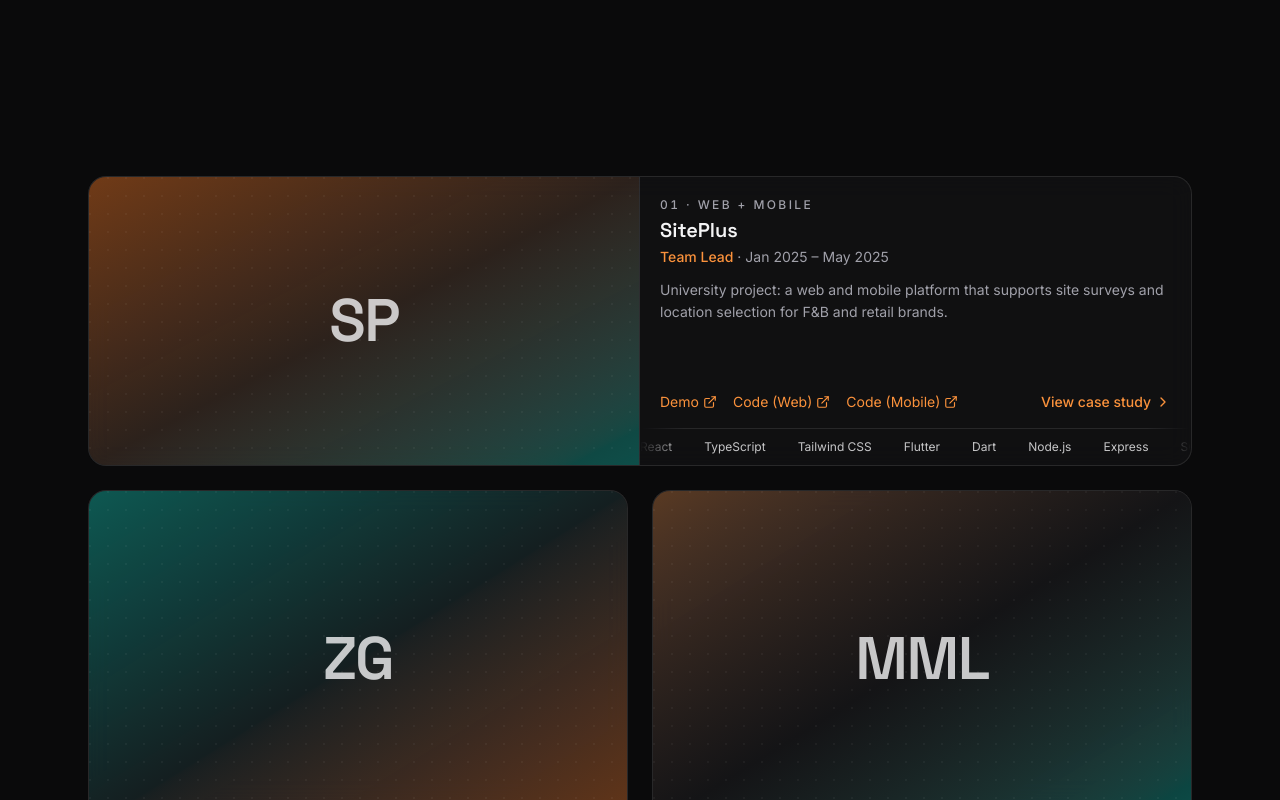
Test: Projects bento › opens the case study sheet when a card with a case study is clicked
The width and height of the screenshot is (1280, 800).
Click the button named "case study".
click(699, 231)  # box [660,217,738,244]
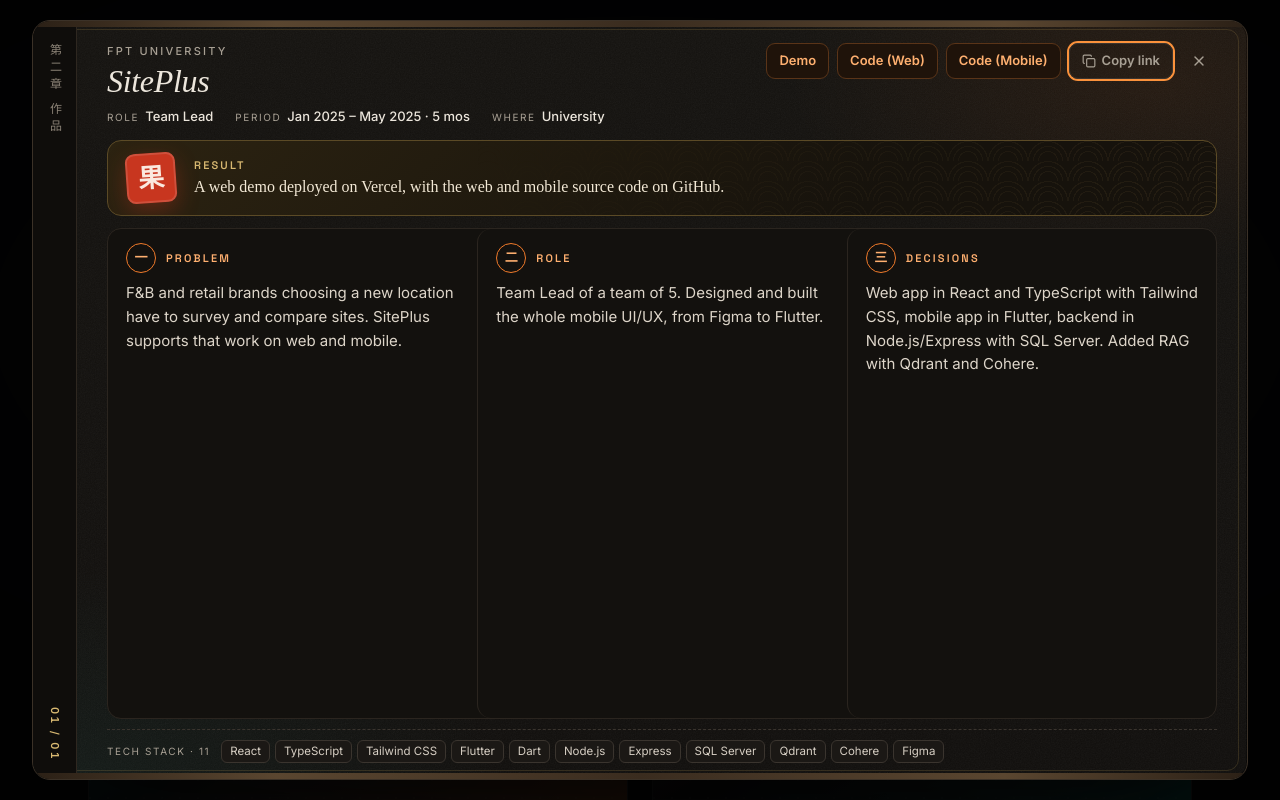
Expected: the text "F&B and retail brands choosing a new location have to survey and compare sites. SitePlus supports that work on web and m" is shown, [126,283,454,350]
Expected: the text "A web demo deployed on Vercel, with the web and mobile source code on GitHub." is shown, [194,178,724,195]
Press Escape
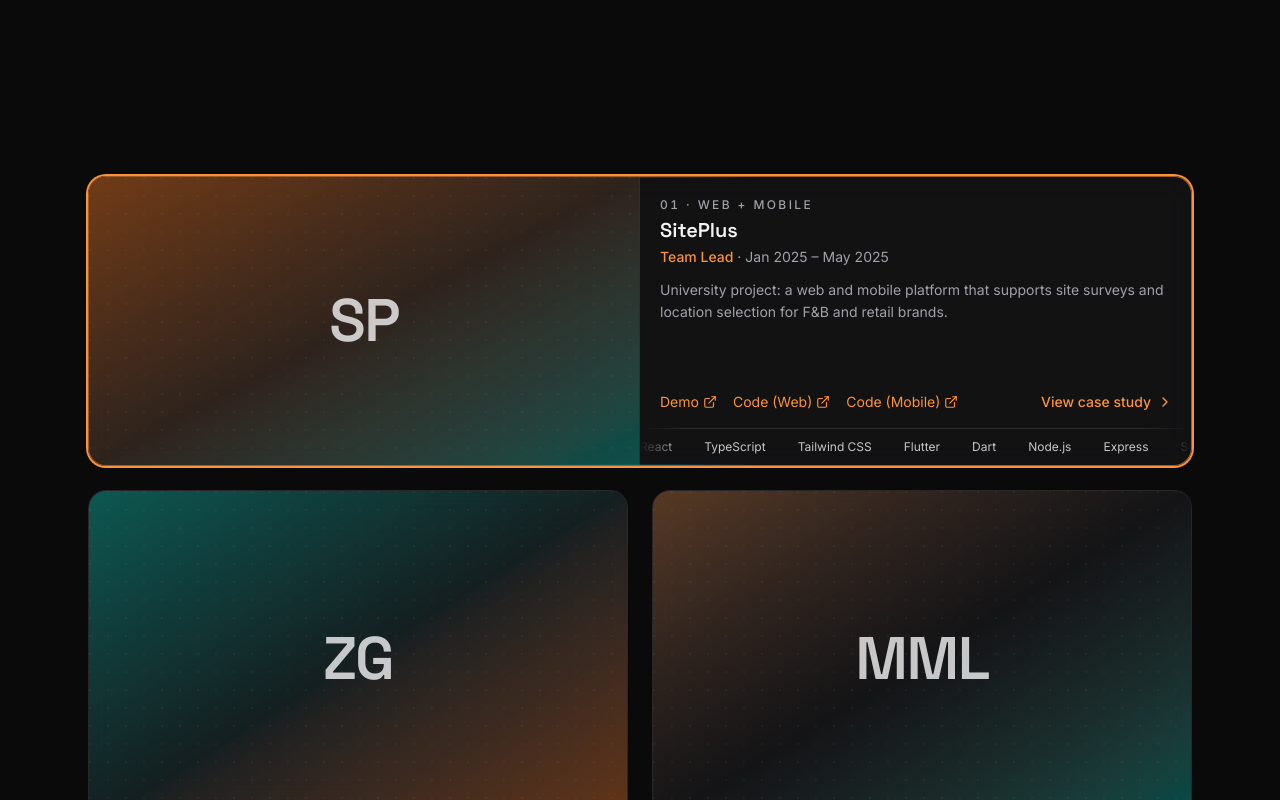
Expected: the dialog is gone
